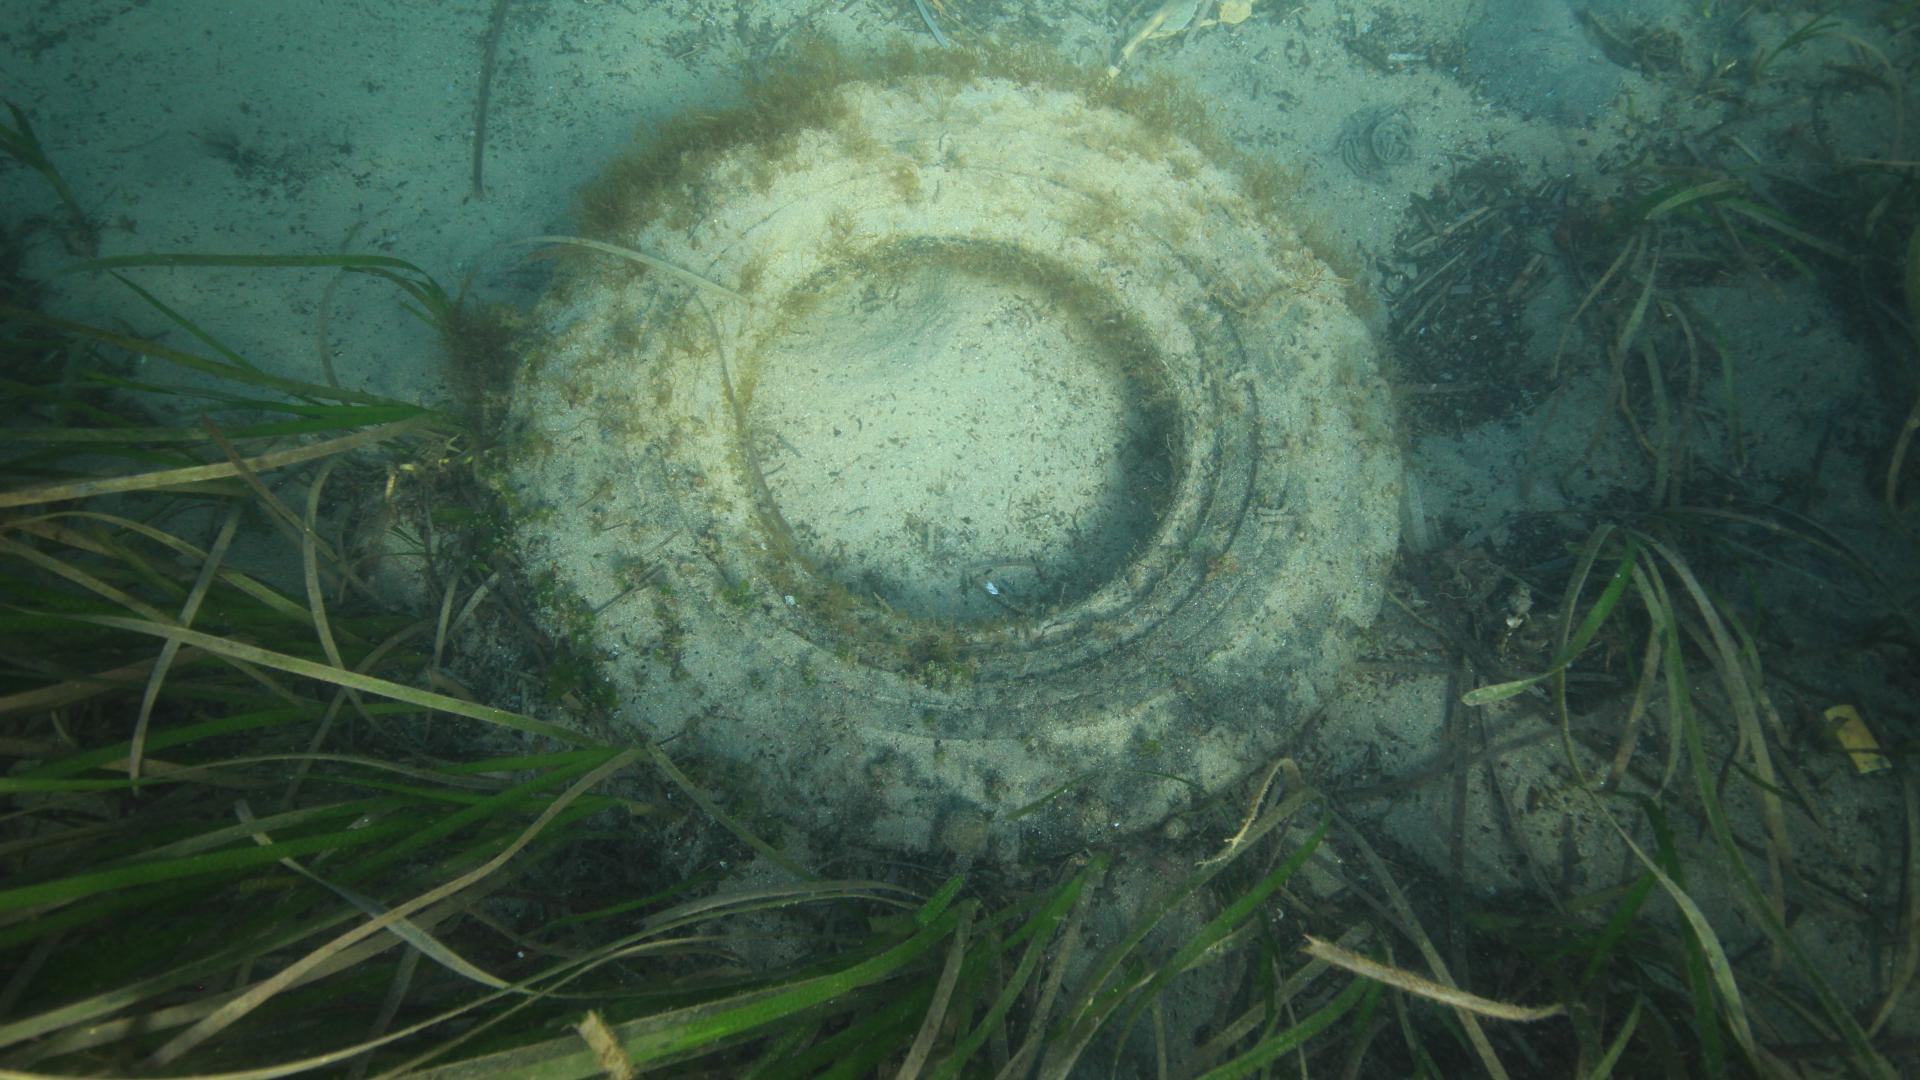tire: (498, 70, 1400, 862)
